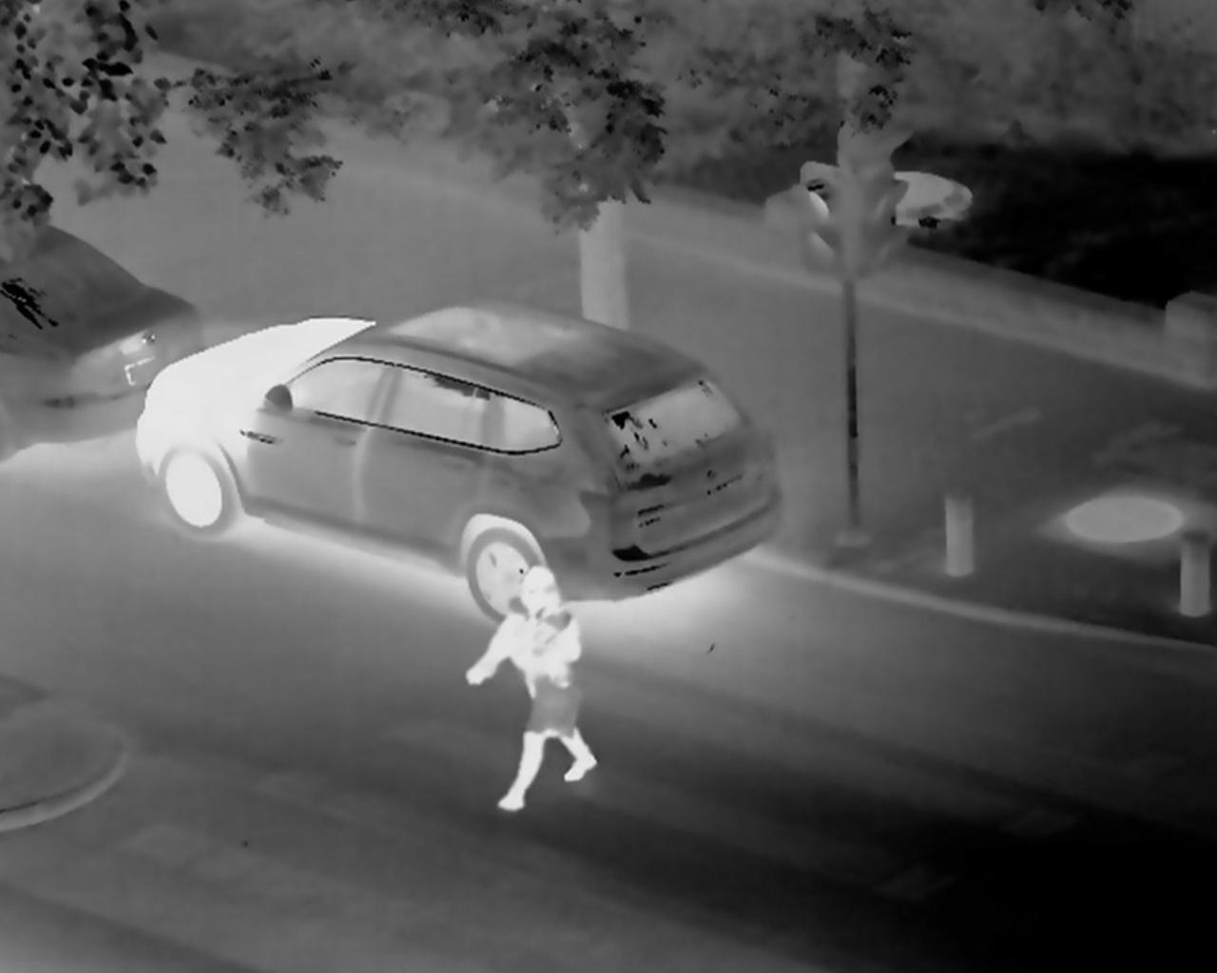person: (469, 560, 620, 837)
